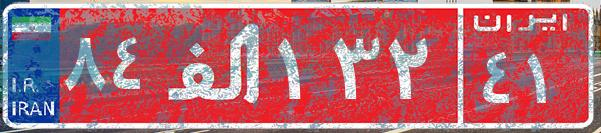1: (273, 28, 330, 110), (525, 38, 570, 115)
2: (385, 28, 445, 110)
3: (330, 28, 385, 110)
4: (475, 38, 525, 113), (110, 28, 158, 105)
8: (57, 26, 110, 107)
الف: (158, 15, 273, 115)
